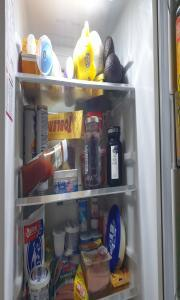Aguacate: (104, 52, 122, 84), (103, 35, 115, 68)
Mayonesa: (36, 32, 62, 82)
Mermelada: (106, 126, 122, 184)
Queso: (106, 205, 126, 272), (27, 266, 52, 300), (52, 170, 78, 195), (65, 217, 80, 252)
Yogur: (90, 195, 99, 230)
